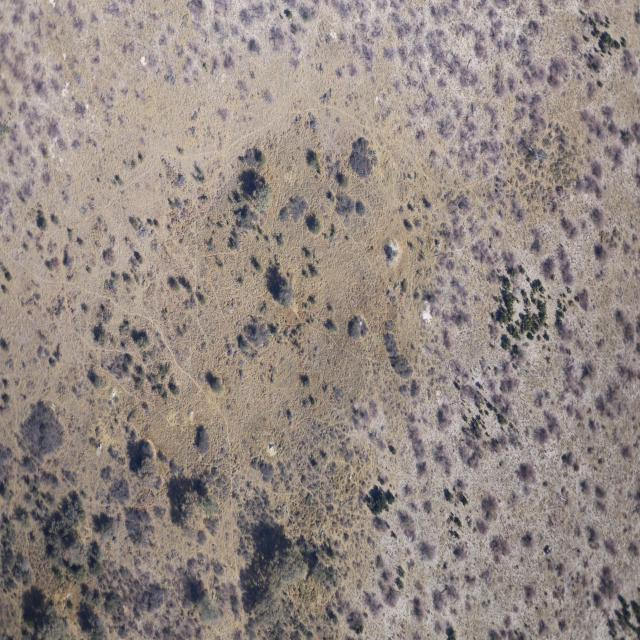elephant: (546, 548, 552, 554)
